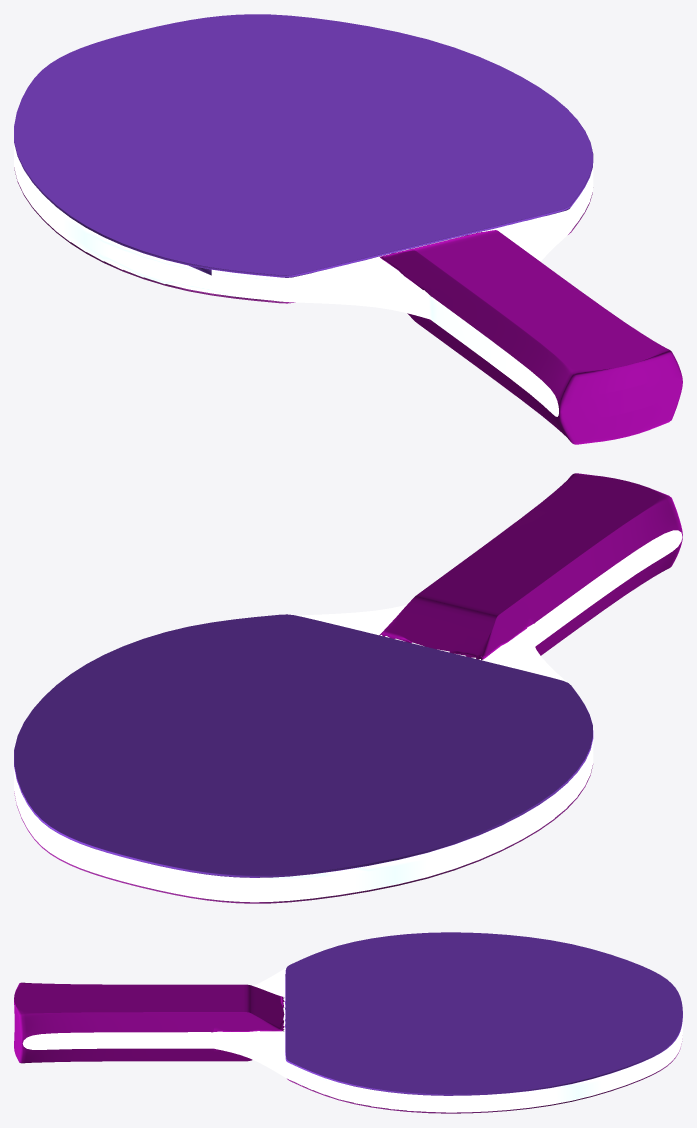
Rendered from Mautim.glb.
The picture shows the model from 3 angles, top to bottom: view 1: azimuth 30°, elevation 25°; view 2: azimuth 150°, elevation 25°; view 3: azimuth 270°, elevation 25°; orthographic projection. The views are drawn at different scales.
Visible parts, largest first — view 1: 10519_pingpong_paddle.024; view 2: 10519_pingpong_paddle.024; view 3: 10519_pingpong_paddle.024.
Part boxes in pixels (left/top/right/bottom): 10519_pingpong_paddle.024: left=14, top=14, right=682, bottom=444; 10519_pingpong_paddle.024: left=14, top=473, right=682, bottom=903; 10519_pingpong_paddle.024: left=14, top=932, right=682, bottom=1113.
Bounding box in the file's own units: 1.64 × 0.2318 × 2.86.
